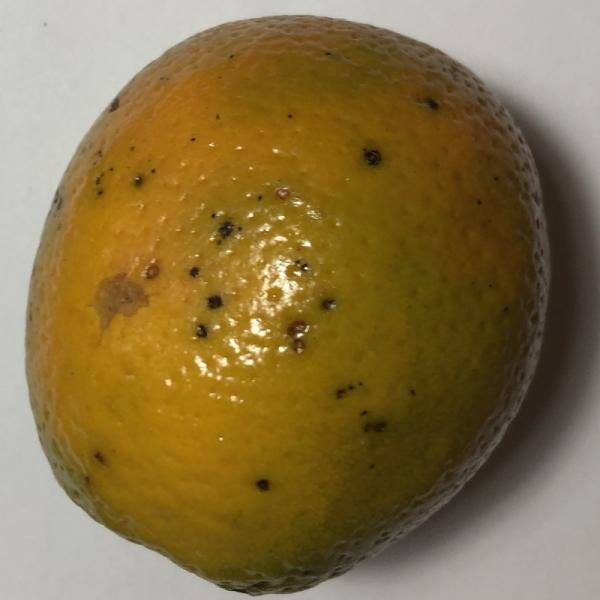Machas negras: (11, 0, 567, 595)
